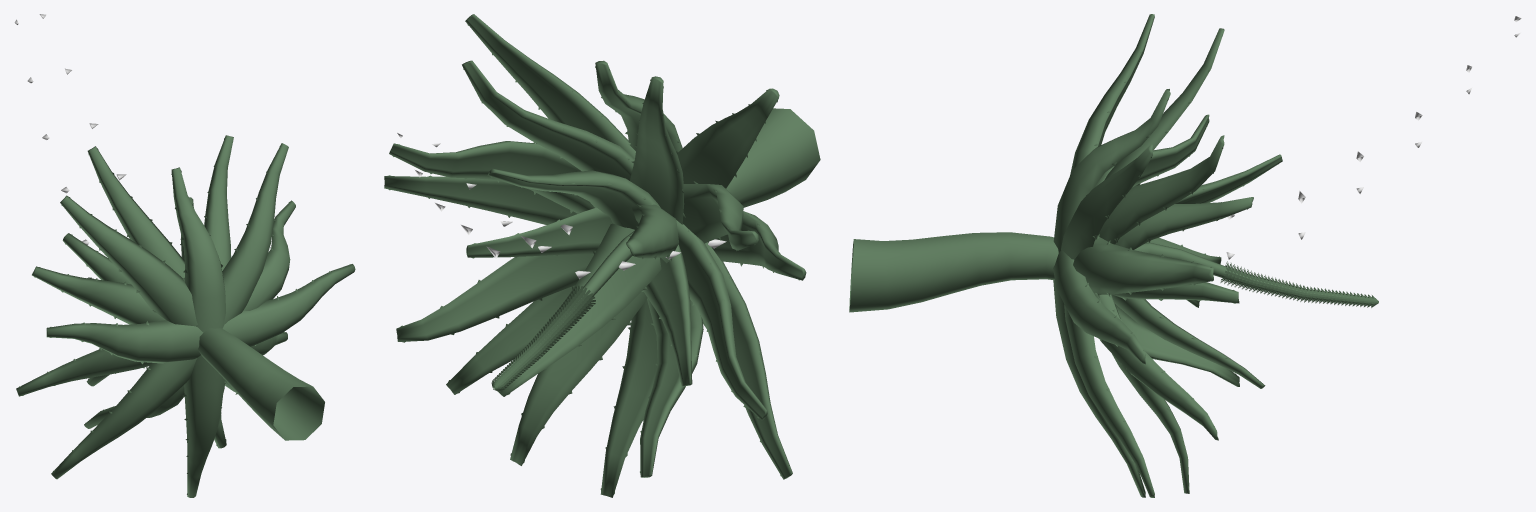
The model's file is BitterAloe_substance.fbx.
3 renders of one model, left to right at view 1: azimuth 30°, elevation 25°; view 2: azimuth 150°, elevation 25°; view 3: azimuth 270°, elevation 25°, orthographic. The views are drawn at different scales.
Parts seen in each view (by area): view 1: Flower.001; view 2: Flower.001, Cone_backup; view 3: Flower.001.
Boxes of the visible parts, left/top/right/bottom form: Flower.001: left=16, top=135, right=355, bottom=497; Flower.001: left=384, top=14, right=820, bottom=497; Cone_backup: left=397, top=133, right=726, bottom=279; Flower.001: left=849, top=14, right=1378, bottom=497.
Bounding box in the file's own units: 1.43 × 1.66 × 2.18.
